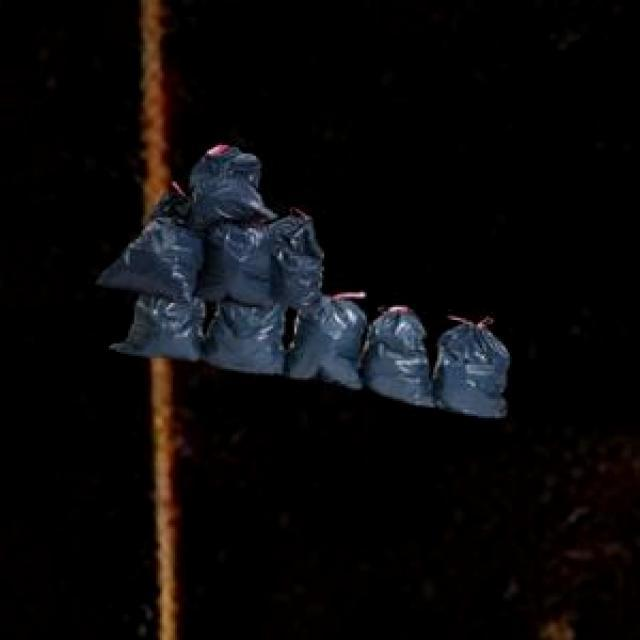Trashbag: (128, 292, 212, 362), (119, 228, 208, 292), (183, 143, 275, 202), (215, 315, 305, 374), (452, 333, 519, 411), (217, 240, 285, 300), (378, 315, 425, 392), (325, 303, 363, 380), (291, 242, 321, 296)
